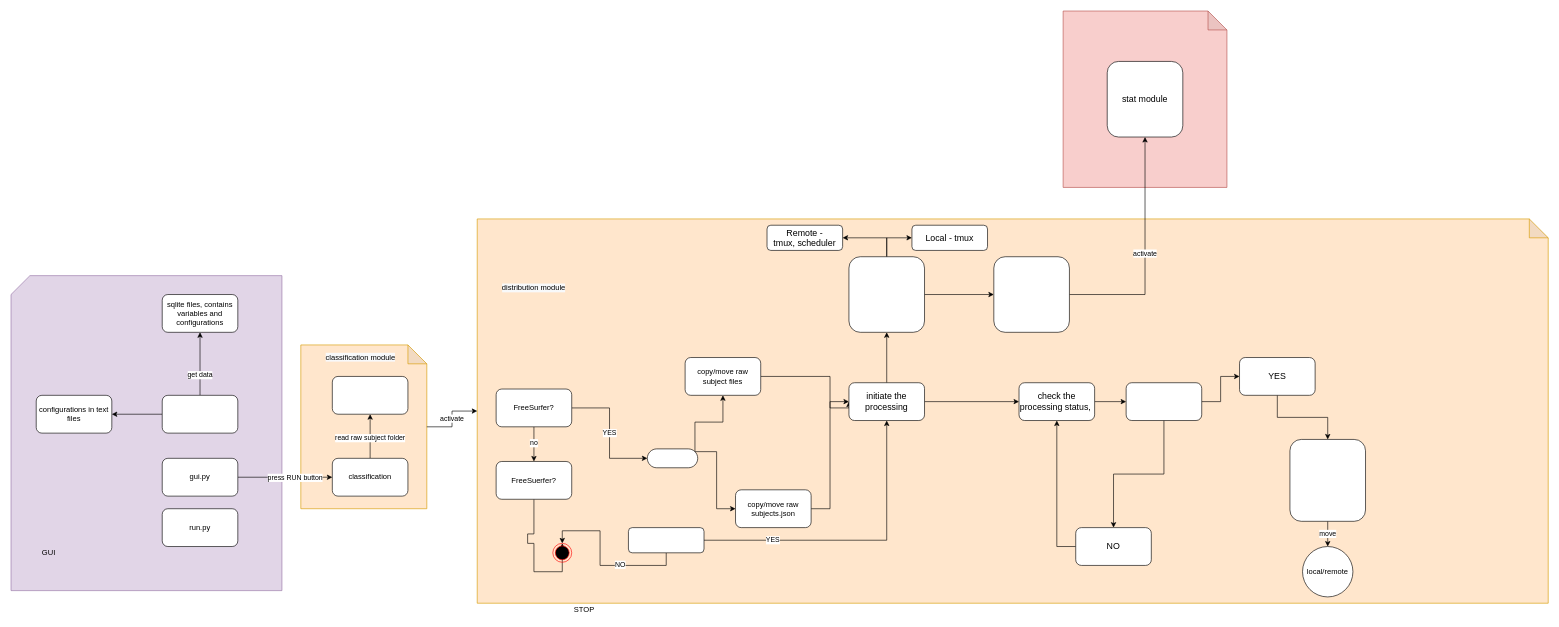
Some shapes in this 1559 by 627 pixel diagram are drawn without their labels. The box of each missing label's shape, as (x1, y1, x2, y2) in pixels:
check space enough to run: (628, 527, 704, 553)
create subjects.json: (332, 376, 408, 414)
finish?: (1125, 382, 1202, 421)
if a file has the groups and the names of the subjects.: (993, 256, 1069, 332)
move the processed files to the designated location (processed_fs): (1289, 439, 1366, 521)
on remote computer: (647, 448, 698, 468)
processing all subject in local pc/remote: (848, 256, 925, 332)
setup.py: (162, 395, 238, 433)
